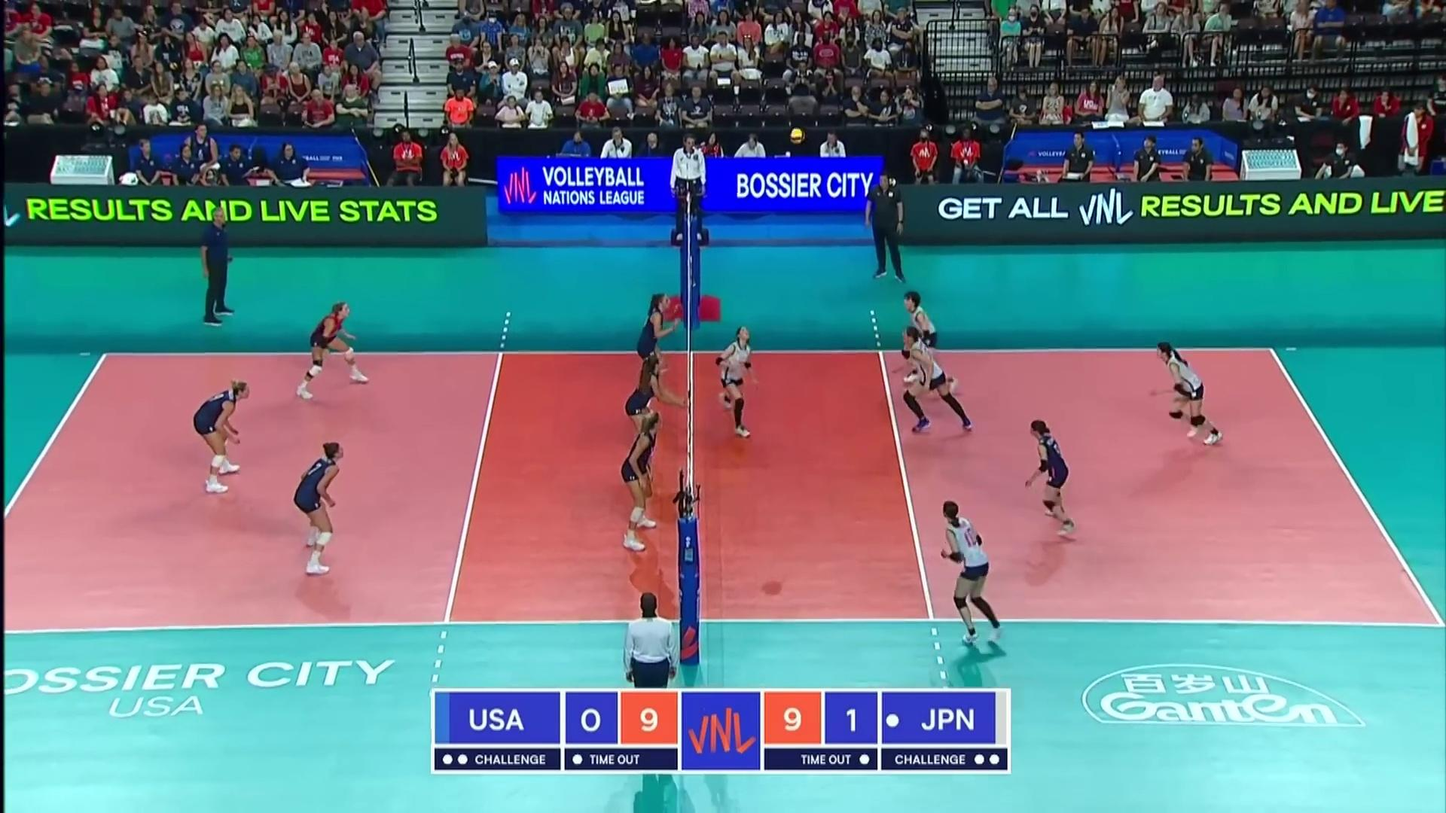player: (937, 501, 1004, 649), (289, 444, 349, 576), (626, 354, 686, 483), (903, 322, 974, 431), (1025, 419, 1088, 539), (1149, 341, 1220, 446), (192, 383, 255, 493), (297, 304, 369, 398), (899, 292, 964, 395), (619, 412, 664, 552), (638, 293, 682, 418), (717, 325, 755, 442)
refree: (625, 593, 678, 757), (672, 137, 706, 240)
